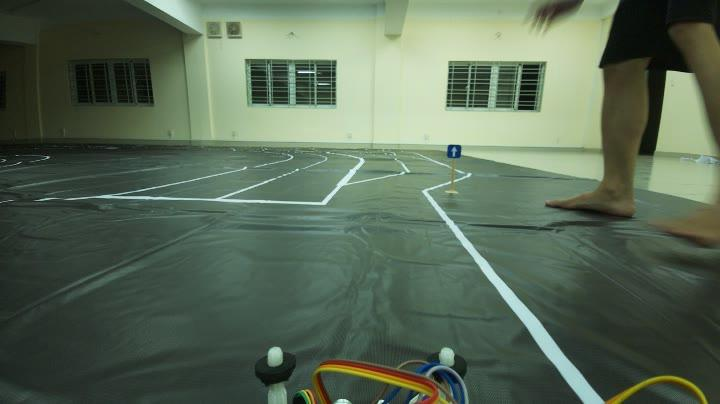onewayroad: (442, 140, 463, 158)
